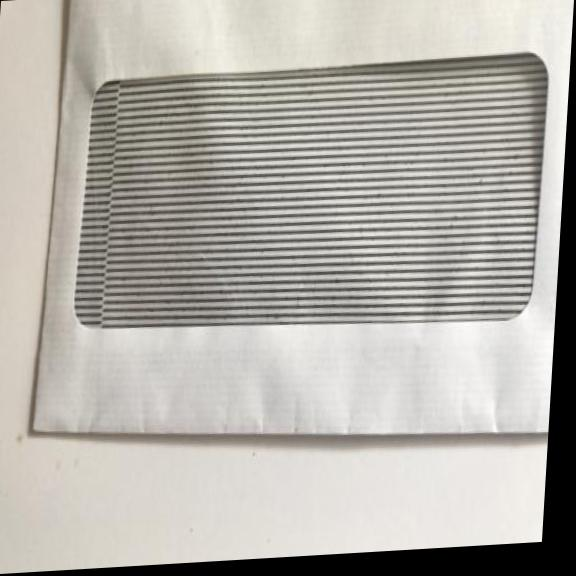Kertas: (31, 0, 576, 477)
